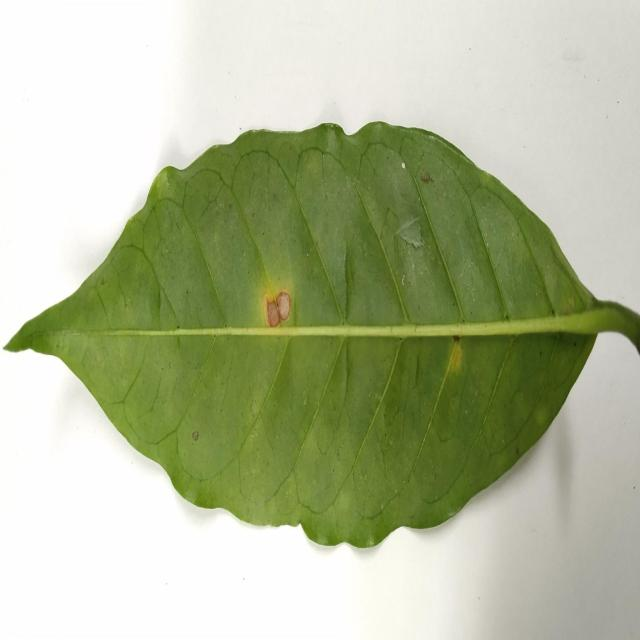Enfermedad-Mancha-de-hierro: (5, 122, 640, 551)
